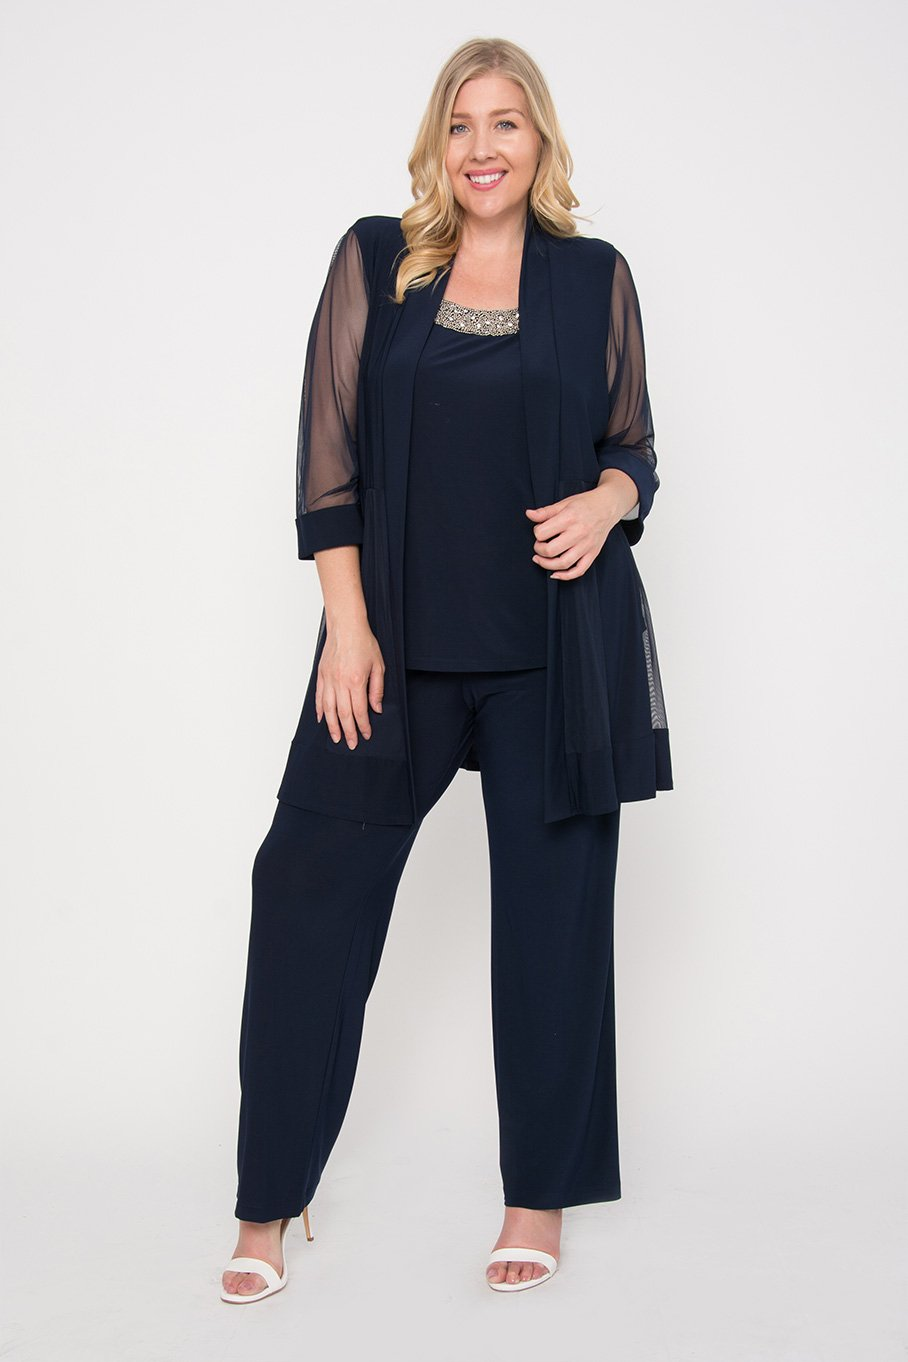feet: (172, 1068, 635, 1302)
